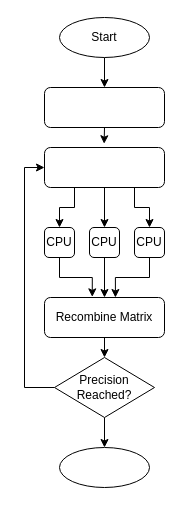
Image size: 182x505. Some labels were removed from this diagram. Each missing label, with the centre of its shape:
"Distribute Workload" goes at [104,167].
"Divide Workload" goes at [104,107].
"End" goes at [104,467].
